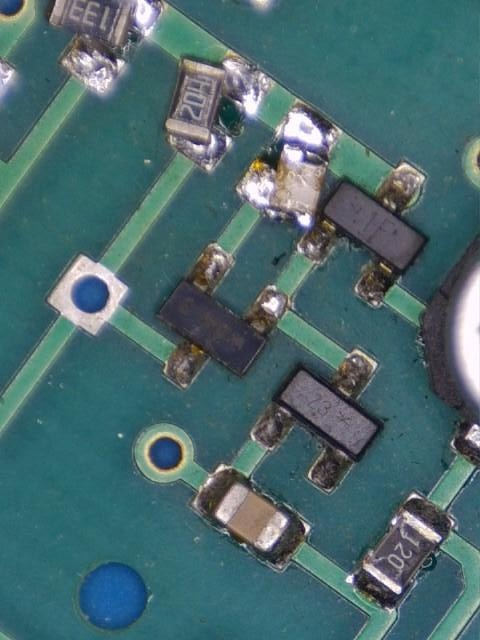pcb_defect: (234, 96, 346, 230), (162, 48, 277, 174), (47, 0, 170, 96)
